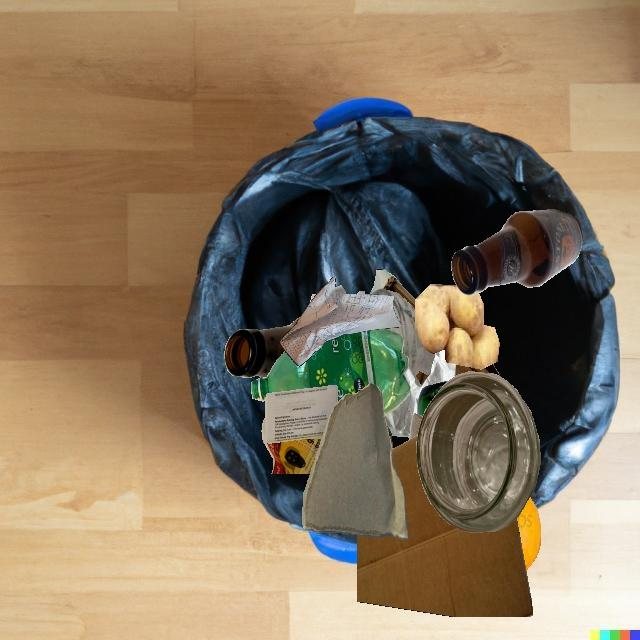biowaste: (415, 284, 500, 369), (516, 496, 541, 571)
cardboard: (357, 435, 533, 617), (302, 384, 408, 539), (360, 294, 415, 334), (370, 269, 415, 309), (415, 334, 456, 376), (455, 363, 501, 377), (410, 414, 422, 439)
glass: (416, 371, 541, 533), (451, 209, 583, 295), (371, 288, 435, 376), (224, 316, 301, 378), (417, 381, 448, 417)
paper: (307, 295, 392, 449), (280, 276, 402, 366), (384, 349, 456, 438), (265, 385, 338, 444), (261, 417, 321, 474)
plastic: (251, 328, 410, 416)
